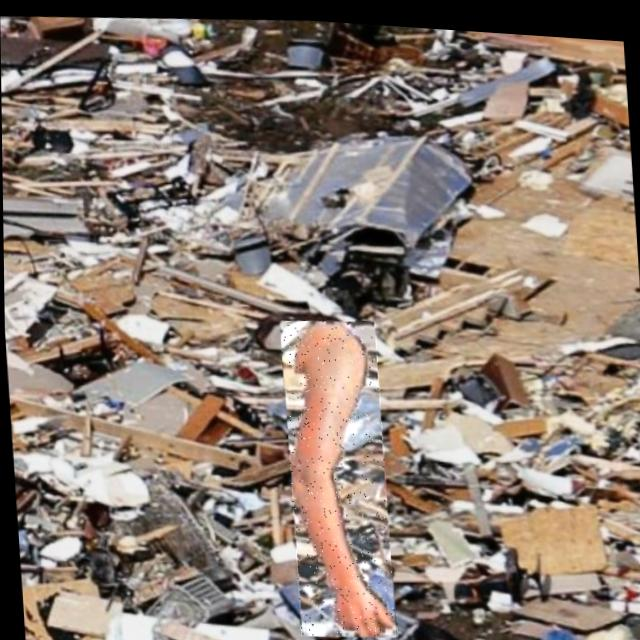Person in Rubble: (279, 311, 394, 637)
